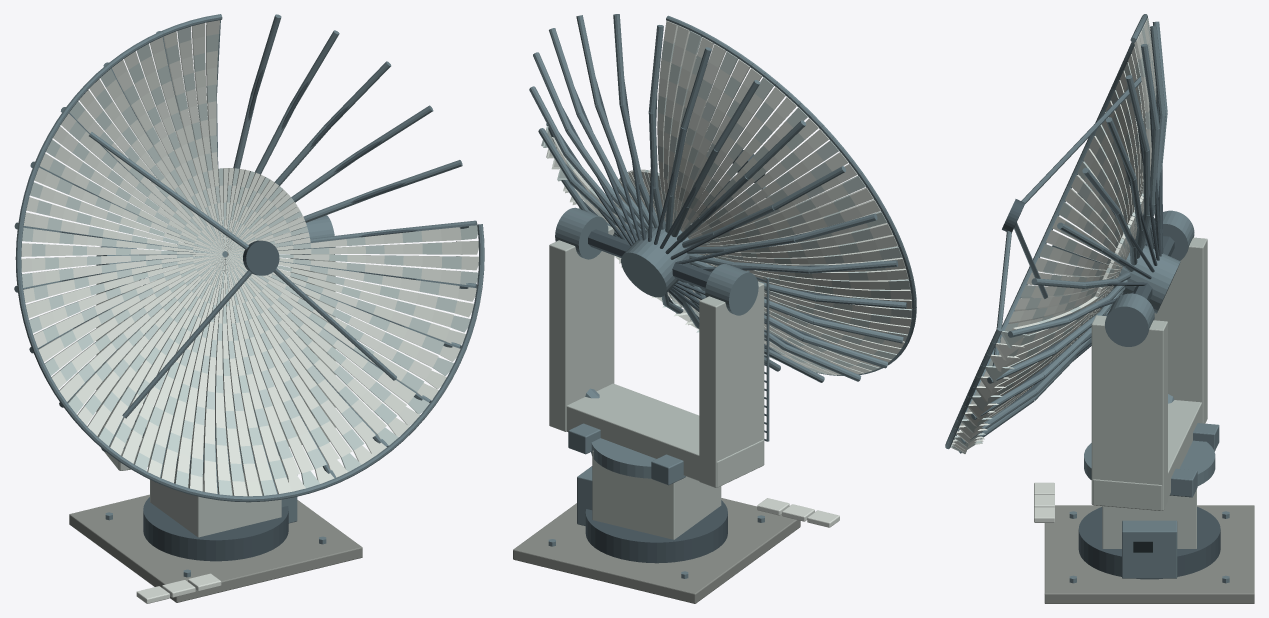
The model's file is skyward_high_d2.glb.
3 renders of one model, left to right at view 1: azimuth 30°, elevation 25°; view 2: azimuth 150°, elevation 25°; view 3: azimuth 270°, elevation 25°, orthographic. The views are drawn at different scales.
Parts seen in each view (by area): view 1: Geometry_ELEVATION.010_Reflector / warm ceramic, Geometry_ELEVATION.010_Reflector / alternate panel, Geometry_ELEVATION.010_Structural frame / blue steel, Concrete octagonal pad.010, Foundation bearing.010, Pedestal.010, Geometry_ELEVATION.010_Edge metal / graphite, Geometry_AZIMUTH.010_Ceramic armor / limestone, Geometry_ROOT.010_Reflector / warm ceramic, Geometry_AZIMUTH.010_Structural frame / blue steel; view 2: Geometry_ELEVATION.010_Reflector / warm ceramic, Geometry_AZIMUTH.010_Ceramic armor / limestone, Geometry_ELEVATION.010_Structural frame / blue steel, Geometry_ELEVATION.010_Reflector / alternate panel, Concrete octagonal pad.010, Geometry_AZIMUTH.010_Structural frame / blue steel, Geometry_ELEVATION.010_Edge metal / graphite, Pedestal.010, Foundation bearing.010, Geometry_ROOT.010_Reflector / warm ceramic, Geometry_ROOT.010_Structural frame / blue steel; view 3: Geometry_AZIMUTH.010_Ceramic armor / limestone, Geometry_ELEVATION.010_Structural frame / blue steel, Geometry_ELEVATION.010_Reflector / warm ceramic, Concrete octagonal pad.010, Geometry_ELEVATION.010_Reflector / alternate panel, Geometry_AZIMUTH.010_Structural frame / blue steel, Foundation bearing.010, Geometry_ROOT.010_Structural frame / blue steel, Geometry_ELEVATION.010_Edge metal / graphite, Pedestal.010, Geometry_ROOT.010_Reflector / warm ceramic.
Boxes of the visible parts, left/top/right/bottom form: Geometry_ELEVATION.010_Reflector / warm ceramic: left=21, top=20, right=478, bottom=496; Geometry_ELEVATION.010_Reflector / alternate panel: left=22, top=26, right=478, bottom=495; Geometry_ELEVATION.010_Structural frame / blue steel: left=14, top=14, right=484, bottom=502; Concrete octagonal pad.010: left=69, top=494, right=362, bottom=602; Foundation bearing.010: left=143, top=497, right=288, bottom=561; Pedestal.010: left=150, top=456, right=281, bottom=537; Geometry_ELEVATION.010_Edge metal / graphite: left=59, top=69, right=417, bottom=437; Geometry_AZIMUTH.010_Ceramic armor / limestone: left=96, top=254, right=335, bottom=470; Geometry_ROOT.010_Reflector / warm ceramic: left=136, top=573, right=221, bottom=603; Geometry_AZIMUTH.010_Structural frame / blue steel: left=96, top=215, right=335, bottom=474; Geometry_ELEVATION.010_Reflector / warm ceramic: left=546, top=20, right=912, bottom=375; Geometry_AZIMUTH.010_Ceramic armor / limestone: left=549, top=225, right=764, bottom=487; Geometry_ELEVATION.010_Structural frame / blue steel: left=529, top=14, right=916, bottom=382; Geometry_ELEVATION.010_Reflector / alternate panel: left=541, top=31, right=911, bottom=374; Concrete octagonal pad.010: left=513, top=498, right=800, bottom=603; Geometry_AZIMUTH.010_Structural frame / blue steel: left=555, top=207, right=769, bottom=485; Geometry_ELEVATION.010_Edge metal / graphite: left=559, top=77, right=842, bottom=354; Pedestal.010: left=592, top=450, right=721, bottom=539; Foundation bearing.010: left=585, top=500, right=727, bottom=563; Geometry_ROOT.010_Reflector / warm ceramic: left=757, top=498, right=839, bottom=527; Geometry_ROOT.010_Structural frame / blue steel: left=548, top=466, right=764, bottom=578; Geometry_AZIMUTH.010_Ceramic armor / limestone: left=1091, top=237, right=1207, bottom=510; Geometry_ELEVATION.010_Structural frame / blue steel: left=945, top=14, right=1180, bottom=453; Geometry_ELEVATION.010_Reflector / warm ceramic: left=950, top=18, right=1156, bottom=453; Concrete octagonal pad.010: left=1044, top=505, right=1254, bottom=603; Geometry_ELEVATION.010_Reflector / alternate panel: left=951, top=19, right=1156, bottom=453; Geometry_AZIMUTH.010_Structural frame / blue steel: left=1084, top=210, right=1219, bottom=497; Foundation bearing.010: left=1078, top=507, right=1220, bottom=579; Geometry_ROOT.010_Structural frame / blue steel: left=1069, top=511, right=1229, bottom=583; Geometry_ELEVATION.010_Edge metal / graphite: left=1002, top=88, right=1174, bottom=404; Pedestal.010: left=1102, top=489, right=1196, bottom=548; Geometry_ROOT.010_Reflector / warm ceramic: left=1034, top=482, right=1054, bottom=522.
Bounding box in the file's own units: 17.94 × 21.86 × 11.78.
